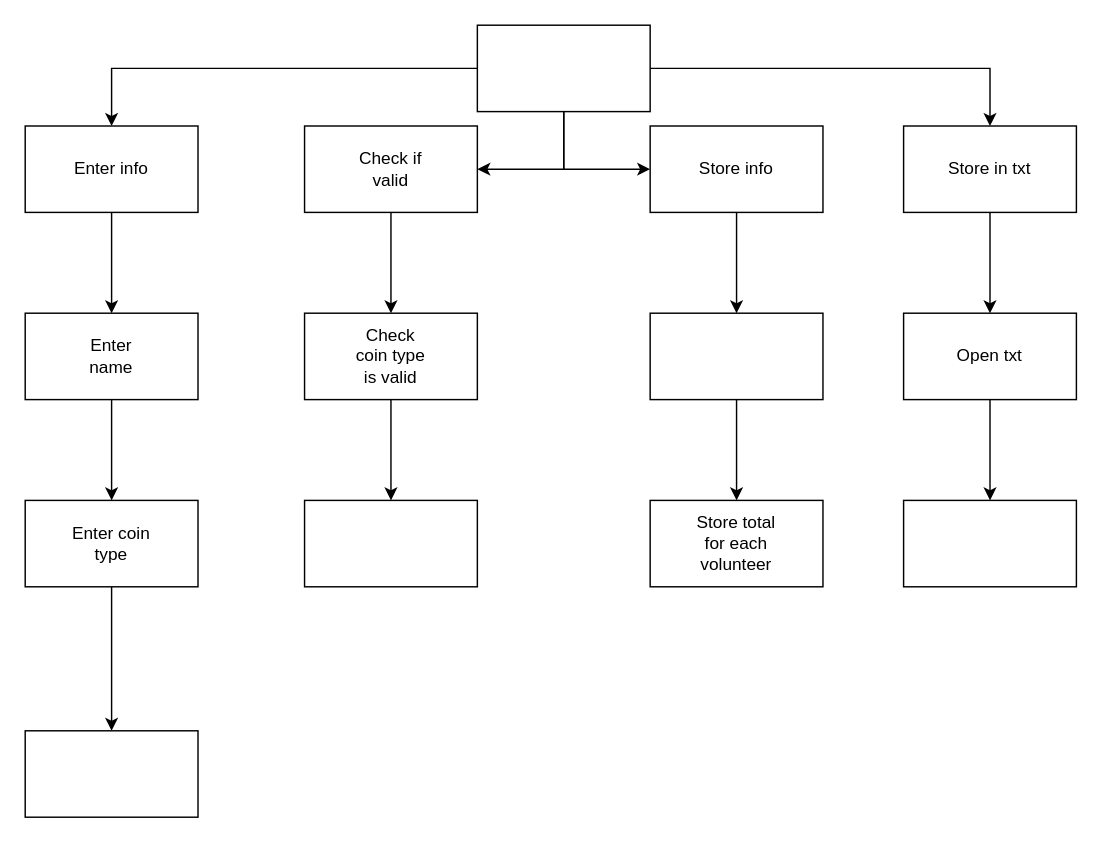
Image size: 1102x842. Some labels were removed from this diagram. The shapes that lost their labels are listed below. From the top down, each one's box as (x1, y1, x2, y2) in pixels, then its label:
(476, 24, 650, 112): Count Coins
(649, 312, 823, 400): Store total bags and total value
(303, 499, 477, 587): Check weight is valid
(902, 499, 1076, 587): Edit txt
(24, 729, 198, 817): Enter coin weight
